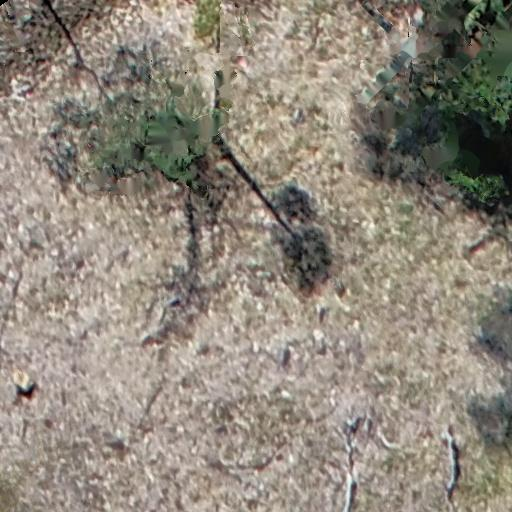stone: (10, 370, 35, 393)
